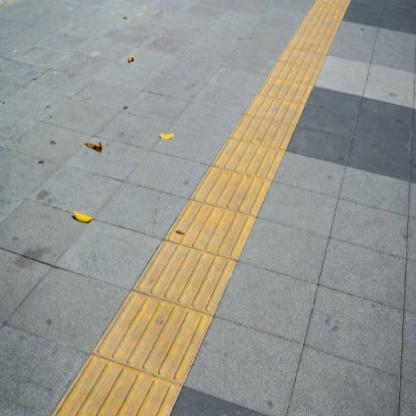podotacti: (52, 4, 350, 412)
